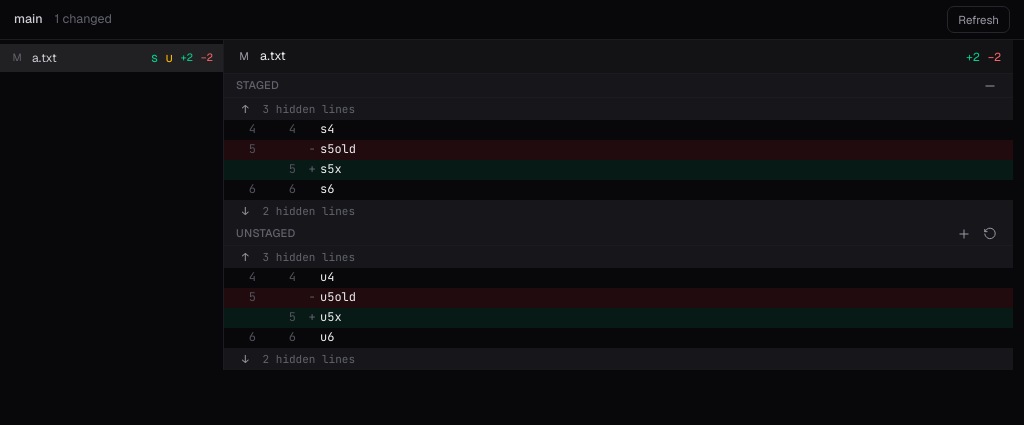
DiffView › expands staged and unstaged context independently
Expected: the text "s1" is not shown
# The staged section renders first, so its expander is the first "expand up".
Click the button named "expand up" at (245, 109), box [236, 101, 255, 117]
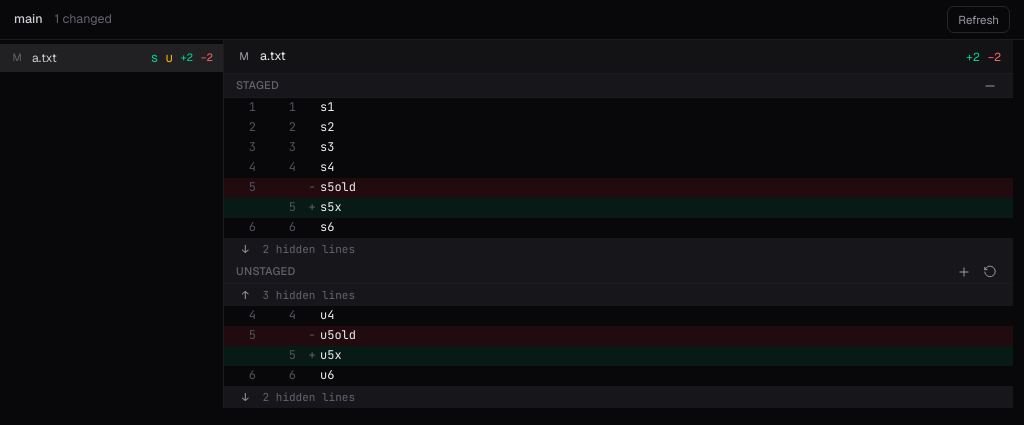
Result: the text "s1" is shown at [320, 99, 334, 115]
